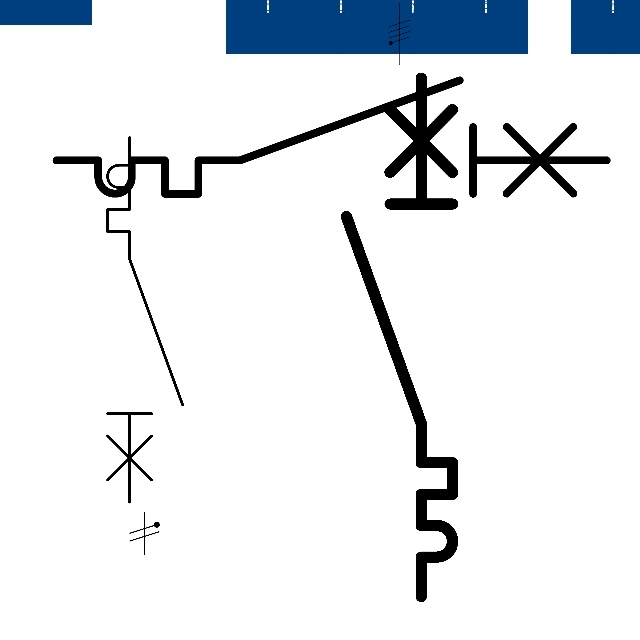interruptor_termomagnetico: (42, 66, 621, 208), (333, 64, 466, 609), (98, 128, 192, 511)
